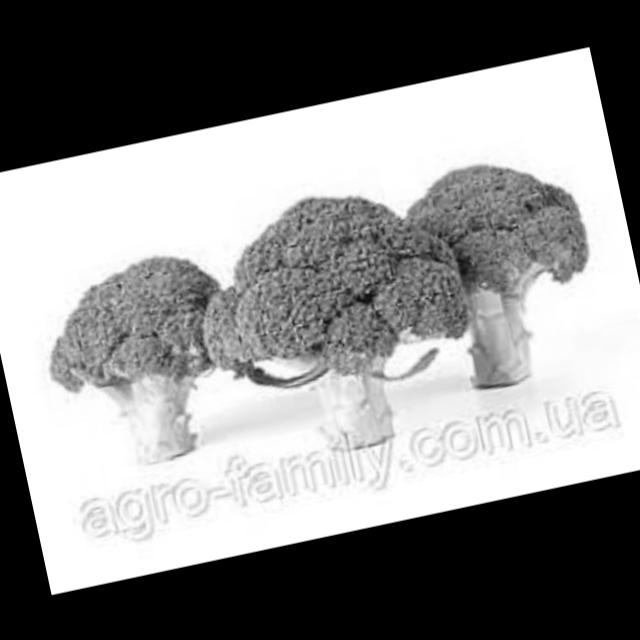broccoli: (199, 145, 486, 501), (21, 203, 253, 477), (400, 143, 632, 408)
